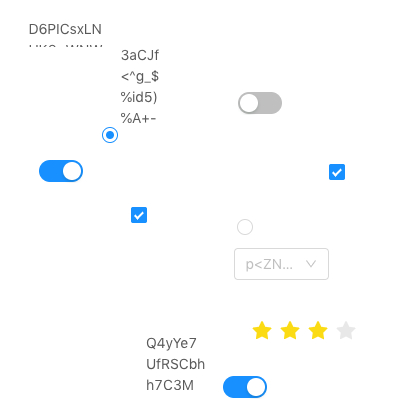Checkbox: (329, 161, 345, 182), (131, 204, 147, 225)
Radio: (102, 124, 118, 144), (237, 216, 253, 236)
Rate: (252, 314, 372, 346)
Select: (234, 248, 329, 280)
Switch: (39, 159, 83, 183), (238, 91, 282, 115), (223, 375, 267, 399)
Text: (121, 44, 168, 133), (146, 332, 206, 390), (29, 18, 104, 47)
